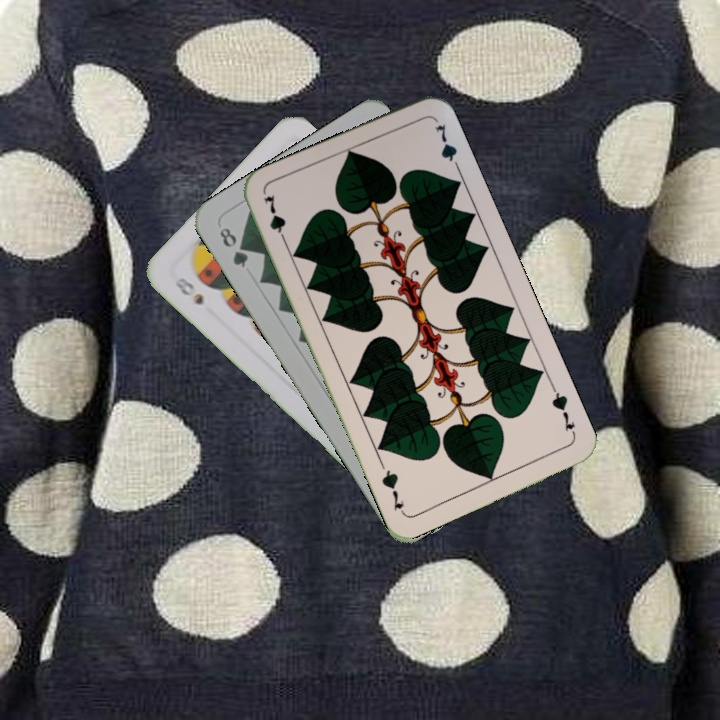G7: (259, 190, 291, 249), (547, 383, 579, 439)
G8: (215, 223, 251, 271)
S8: (170, 273, 207, 308)
